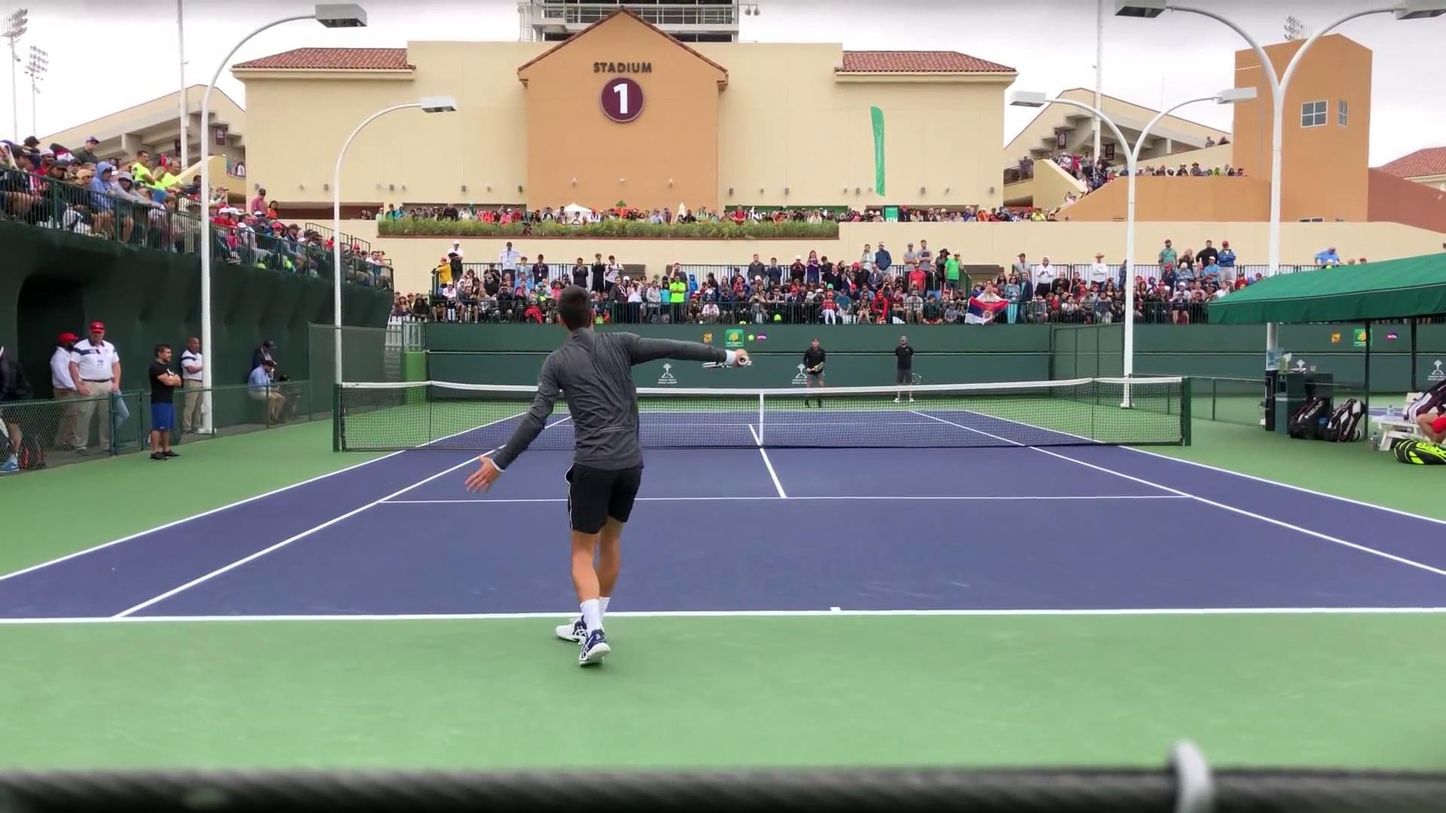ball: (748, 335, 754, 342)
